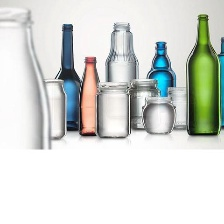bottle: (0, 4, 52, 152), (184, 11, 220, 140), (51, 21, 83, 130), (93, 78, 134, 141), (104, 18, 140, 85), (76, 54, 102, 138), (39, 75, 70, 141), (144, 40, 179, 98), (126, 77, 161, 129), (140, 95, 180, 139), (165, 84, 194, 131), (213, 35, 223, 130)
